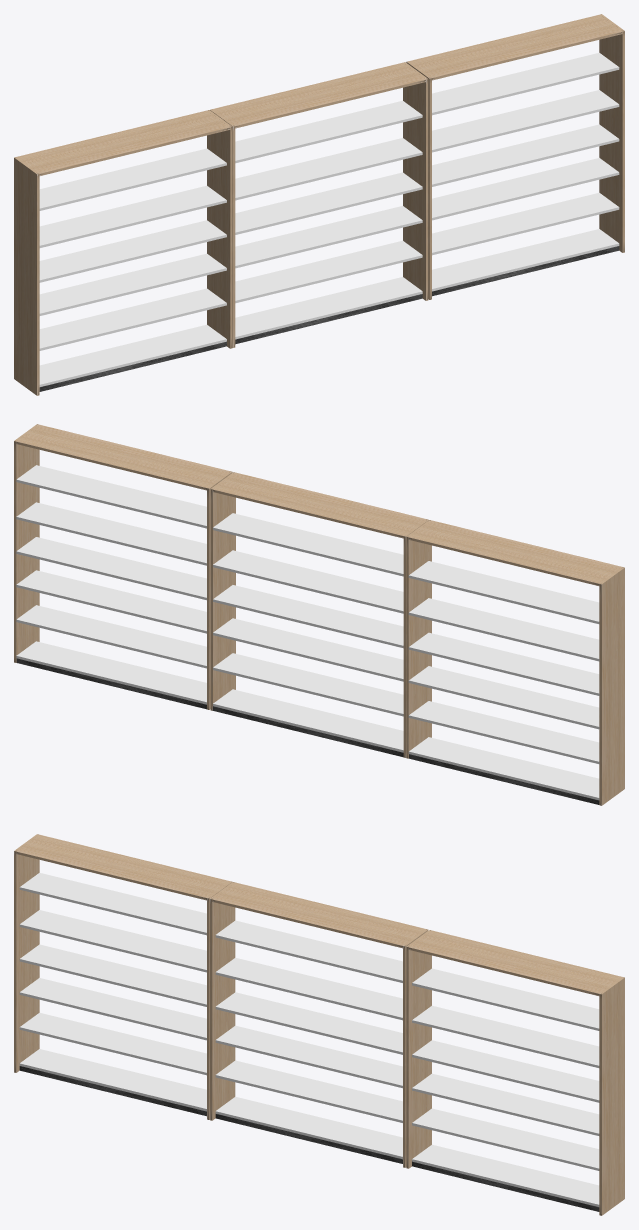
Rendered from BookRack01.fbx.
3 renders of one model, top to bottom at view 1: azimuth 30°, elevation 25°; view 2: azimuth 150°, elevation 25°; view 3: azimuth 330°, elevation 25°, orthographic.
Parts seen in each view (by area): view 1: BookRack01; view 2: BookRack01; view 3: BookRack01.
Boxes of the visible parts, x1,y1,x2,y2 form: BookRack01: (14, 14, 624, 395); BookRack01: (14, 424, 624, 805); BookRack01: (14, 834, 624, 1215).
Bounding box in the file's own units: 6.53 × 2.35 × 0.445.
